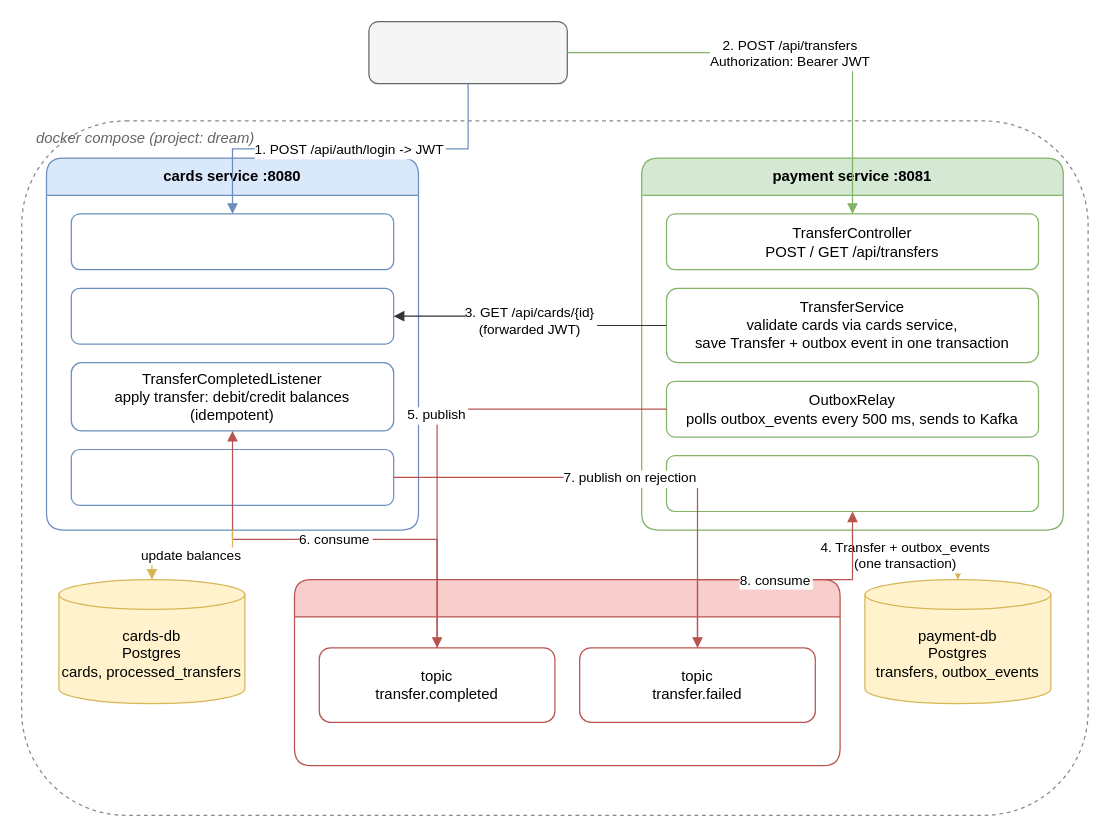
Some shapes in this 1110 by 837 pixel diagram are drawn without their labels. The box of each missing label's shape, as (x1, y1, x2, y2) in pixels:
AuthController POST /api/auth/login (issues JWT, 1h): (70, 213, 394, 270)
CardController /api/cards CRUD: (70, 287, 394, 344)
Client (Swagger UI / curl): (368, 20, 567, 84)
Kafka (KRaft, single node): (293, 578, 840, 766)
TransferFailedListener transfer status -> FAILED: (665, 454, 1038, 512)
TransferFailedPublisher publishes on rejection: (70, 448, 394, 505)
